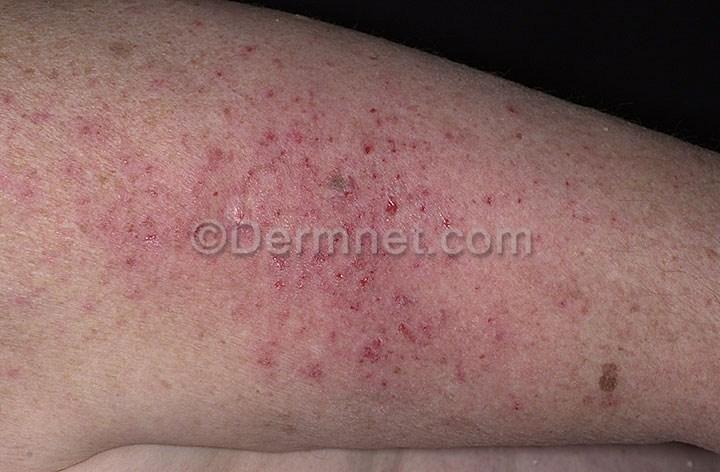Eczema: (214, 256, 455, 432), (216, 78, 458, 217), (19, 128, 188, 319), (458, 270, 598, 412), (2, 13, 155, 128), (464, 107, 592, 219), (154, 4, 215, 128), (223, 23, 309, 70)
